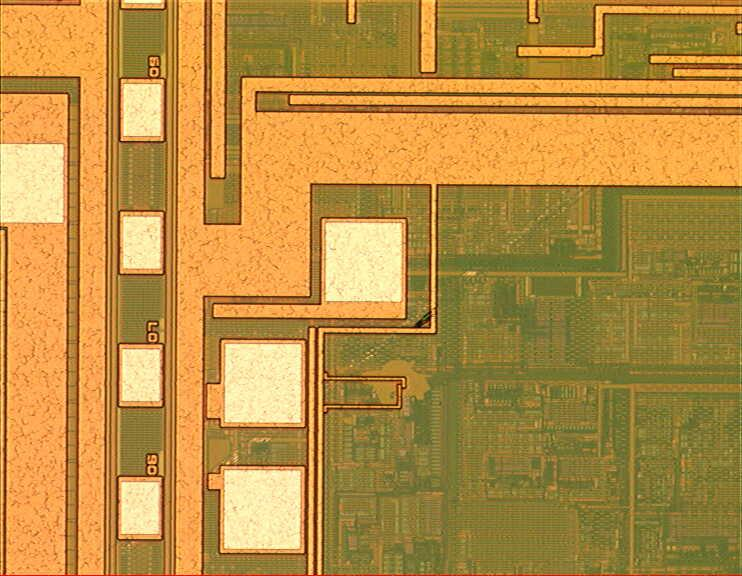SCRATCH: (204, 183, 608, 495)
